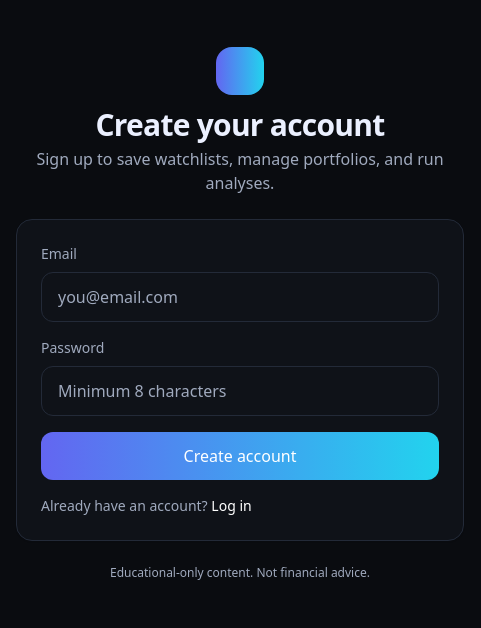
Test case: Signup page › shows a network error when signup fails unexpectedly
Type "new@example.com" into the field labelled "Email" at point(240, 297), box [41,272,439,322]
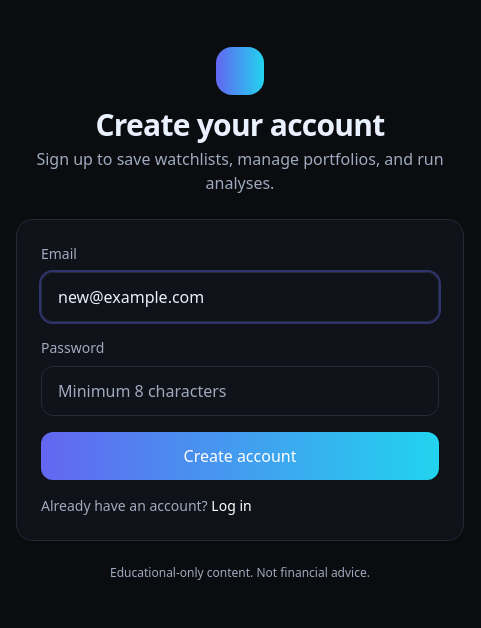
Type "password123" into the password field labelled "Password" at point(240, 391), box [41,366,439,416]
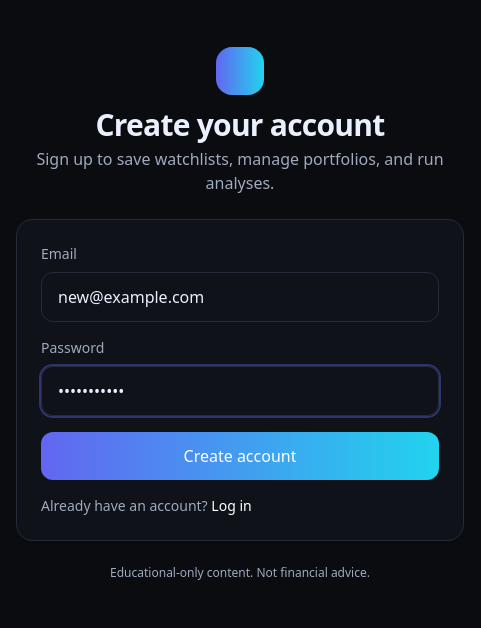
Click the button "Create account" at point(240, 456), box [41,432,439,480]
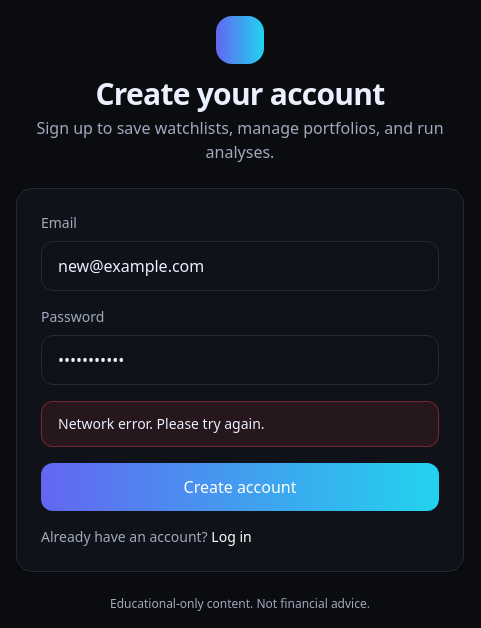
Expected: the text "Network error. Please try again." is shown, [58,414,265,433]
